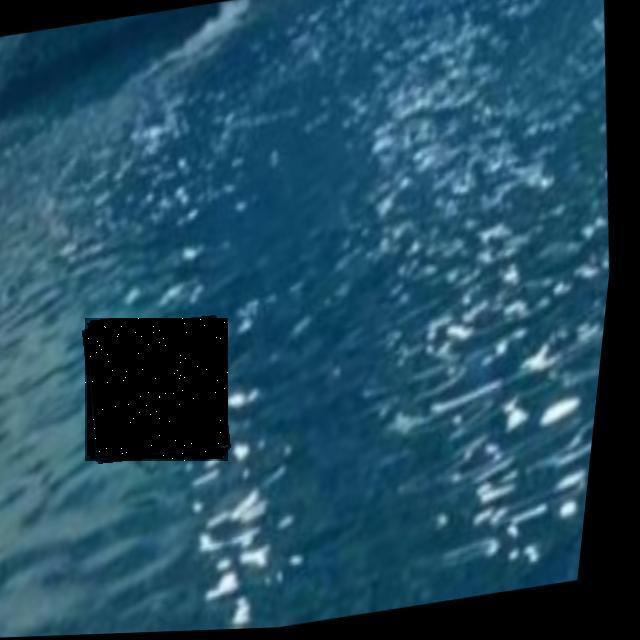swimming: (85, 318, 228, 461)
